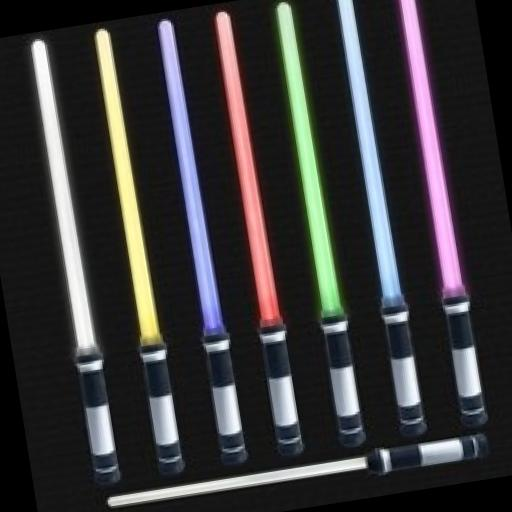lightsaber: (268, 0, 370, 447), (87, 30, 187, 473), (152, 21, 252, 463), (24, 38, 124, 480), (390, 0, 489, 425), (330, 0, 424, 436), (103, 433, 488, 512)
sith saber: (208, 9, 310, 456)
